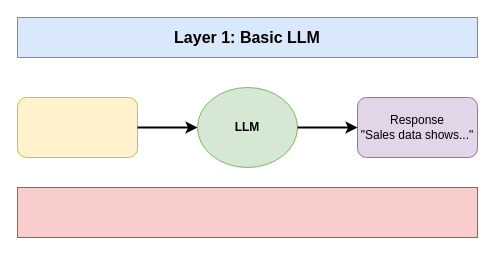
This 495x255 diagram has some shape labels left out. The shapes that lost their labels are listed below. From the top down, each one's centre as x and y in pixels, then its label:
(77,127): User Input "What are sales?"
(247,212): ❌ No context retention ❌ No external tools ❌ Limited capabilities
